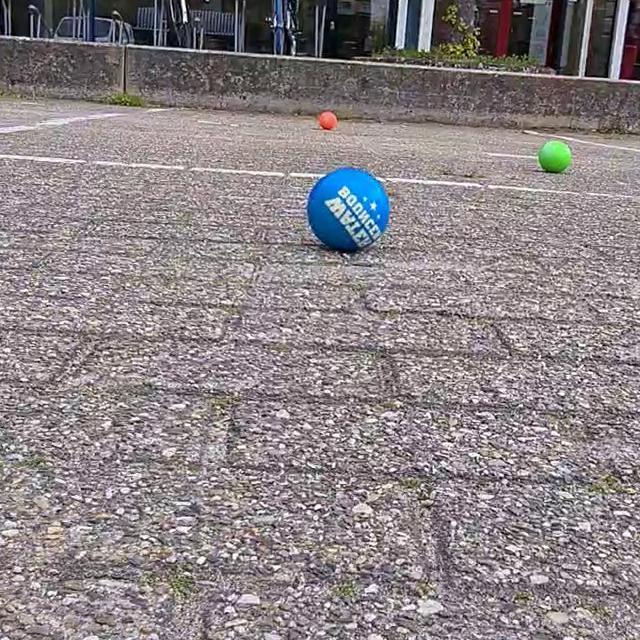ball: (536, 137, 572, 176), (316, 104, 338, 135)
